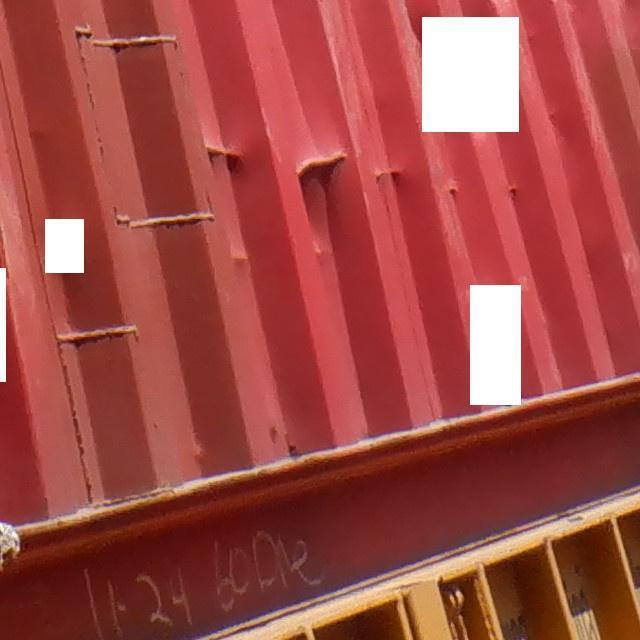dent: (181, 132, 461, 209)
